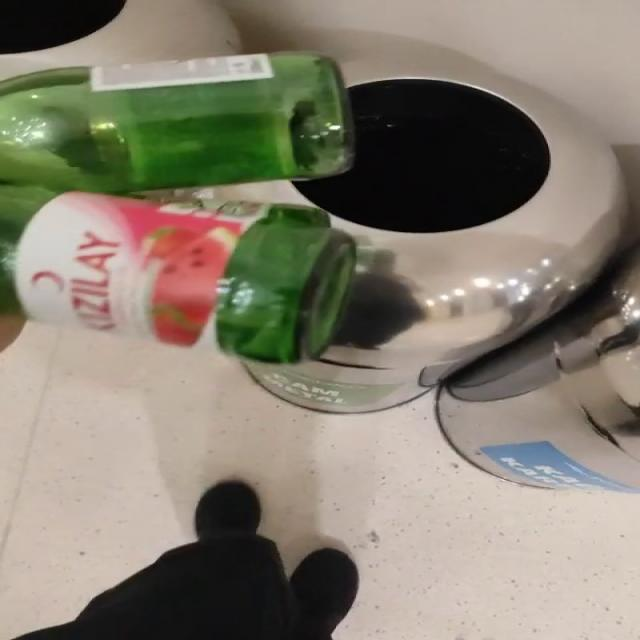bin: (212, 33, 625, 413)
glass: (1, 52, 357, 364)
